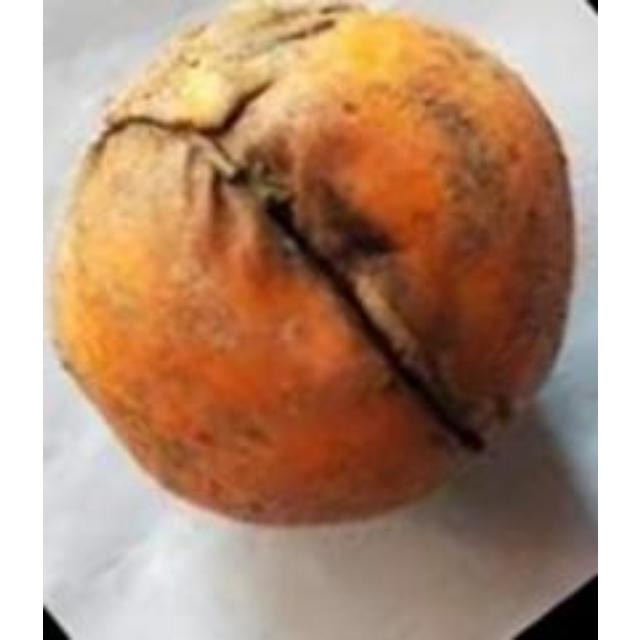damaged: (53, 0, 570, 520)
